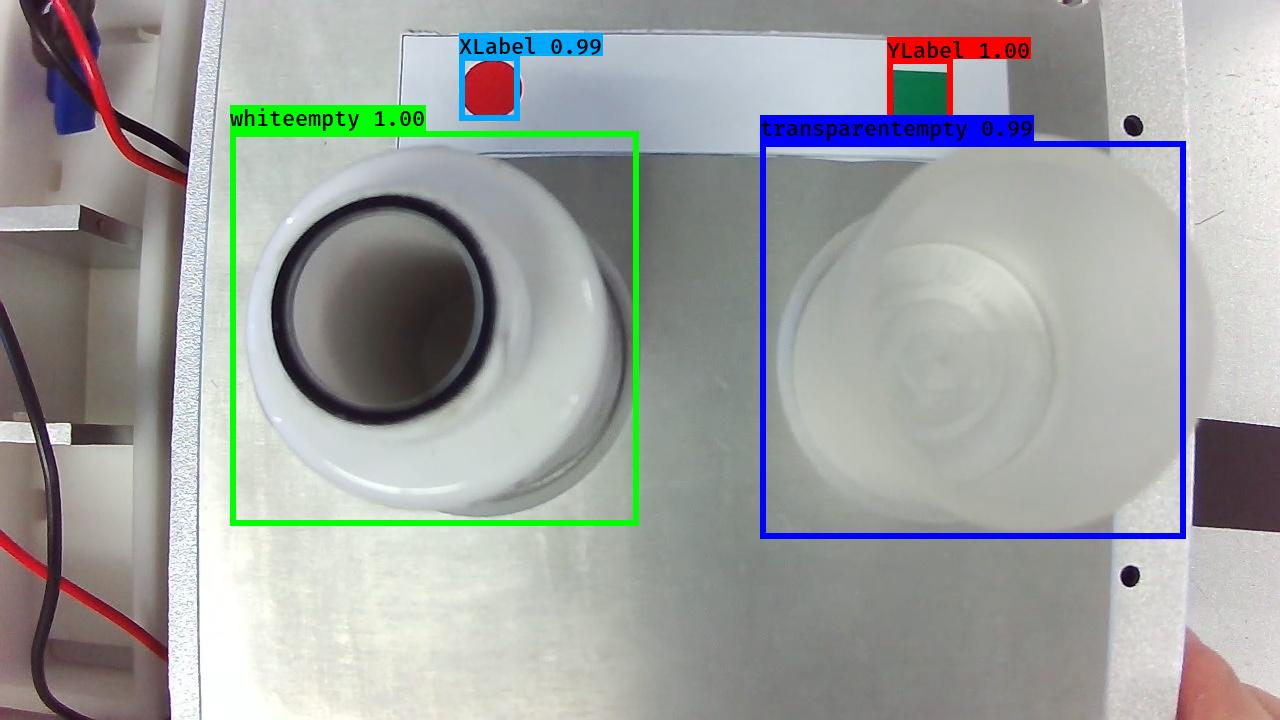XLabel: (460, 56, 529, 125)
YLabel: (886, 63, 957, 136)
transparentempty: (775, 133, 1222, 542)
whiteempty: (236, 142, 645, 524)
